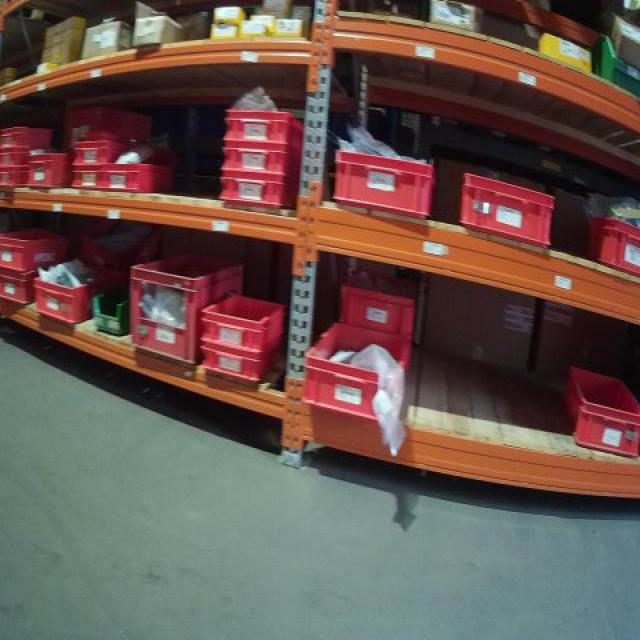small_load_carrier: (127, 250, 245, 372), (303, 317, 403, 425), (448, 167, 553, 253), (328, 143, 436, 224), (563, 356, 639, 457), (196, 288, 292, 349), (338, 264, 422, 325), (199, 335, 289, 383), (31, 261, 96, 325), (572, 219, 640, 275), (220, 109, 305, 152), (61, 113, 150, 150), (2, 224, 70, 271), (222, 147, 300, 179), (108, 162, 175, 195), (26, 148, 72, 195), (217, 180, 300, 205), (69, 141, 151, 165), (395, 327, 427, 380), (1, 271, 35, 303), (71, 169, 108, 195), (2, 125, 52, 143), (4, 146, 40, 168), (1, 167, 26, 190)
